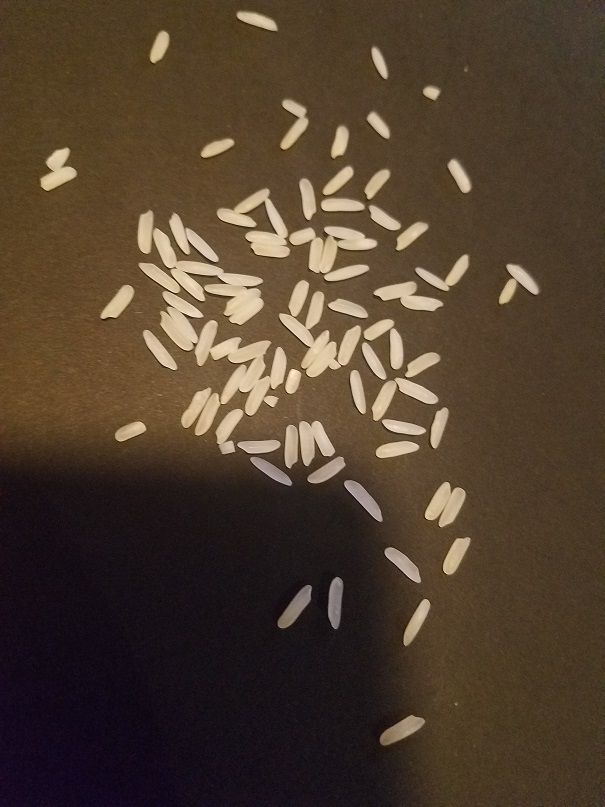egg: (275, 582, 314, 631), (138, 326, 177, 372), (343, 478, 383, 522), (95, 284, 139, 321), (378, 713, 427, 746), (155, 311, 194, 352), (179, 385, 213, 429), (137, 260, 180, 294), (383, 547, 423, 583), (401, 598, 431, 646), (191, 390, 221, 436), (184, 225, 220, 263), (248, 456, 293, 486), (160, 289, 205, 319), (243, 375, 275, 417), (437, 485, 468, 527), (217, 363, 248, 405), (300, 329, 331, 371), (165, 306, 200, 343), (211, 408, 245, 446), (441, 535, 473, 575), (150, 225, 179, 269), (397, 376, 439, 406), (277, 311, 313, 346), (369, 379, 398, 422), (306, 454, 346, 485), (193, 319, 218, 368), (506, 261, 542, 295), (306, 340, 338, 377), (169, 269, 206, 301), (279, 115, 311, 151), (227, 338, 273, 363), (360, 339, 387, 381), (238, 355, 267, 394), (424, 481, 452, 521), (167, 210, 191, 256), (337, 325, 363, 367), (223, 287, 262, 315), (394, 219, 427, 252), (319, 165, 354, 196), (373, 279, 418, 303), (228, 297, 265, 326), (263, 198, 289, 239), (445, 156, 473, 194), (233, 186, 272, 213), (365, 202, 401, 231), (427, 405, 450, 450), (328, 296, 370, 320), (309, 419, 336, 456), (360, 166, 390, 199), (40, 167, 83, 190), (404, 351, 442, 377), (415, 265, 451, 292), (444, 253, 471, 289), (373, 440, 421, 460), (327, 575, 344, 631), (287, 278, 311, 317), (302, 290, 326, 329), (397, 294, 446, 313), (381, 417, 427, 437), (209, 336, 244, 362), (111, 419, 145, 445), (297, 177, 318, 219), (323, 263, 371, 281), (137, 209, 155, 256), (317, 235, 338, 275), (349, 369, 368, 413), (198, 136, 236, 158), (215, 208, 258, 227), (298, 421, 315, 467), (216, 271, 264, 287), (323, 223, 365, 241), (329, 125, 350, 161), (250, 240, 291, 258), (283, 423, 299, 469), (362, 317, 394, 340), (319, 196, 365, 212), (175, 261, 224, 276), (365, 110, 390, 138), (44, 146, 70, 172), (238, 438, 283, 453), (496, 276, 518, 306), (270, 346, 286, 387), (388, 327, 403, 370), (245, 230, 287, 245), (287, 225, 317, 246), (308, 235, 324, 273), (337, 238, 378, 252), (281, 96, 308, 117), (200, 285, 247, 296), (285, 369, 303, 396), (218, 440, 237, 454), (262, 393, 279, 408), (422, 85, 439, 100), (327, 358, 341, 369)
